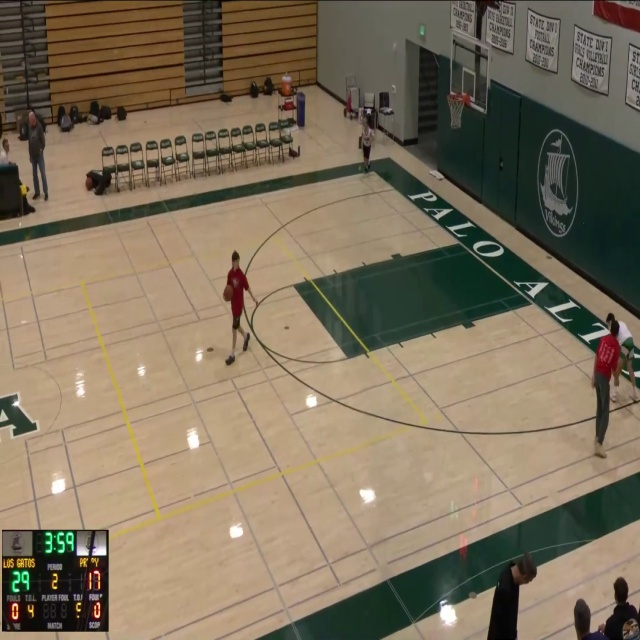Basketball: (223, 285, 233, 302), (85, 177, 94, 190)
